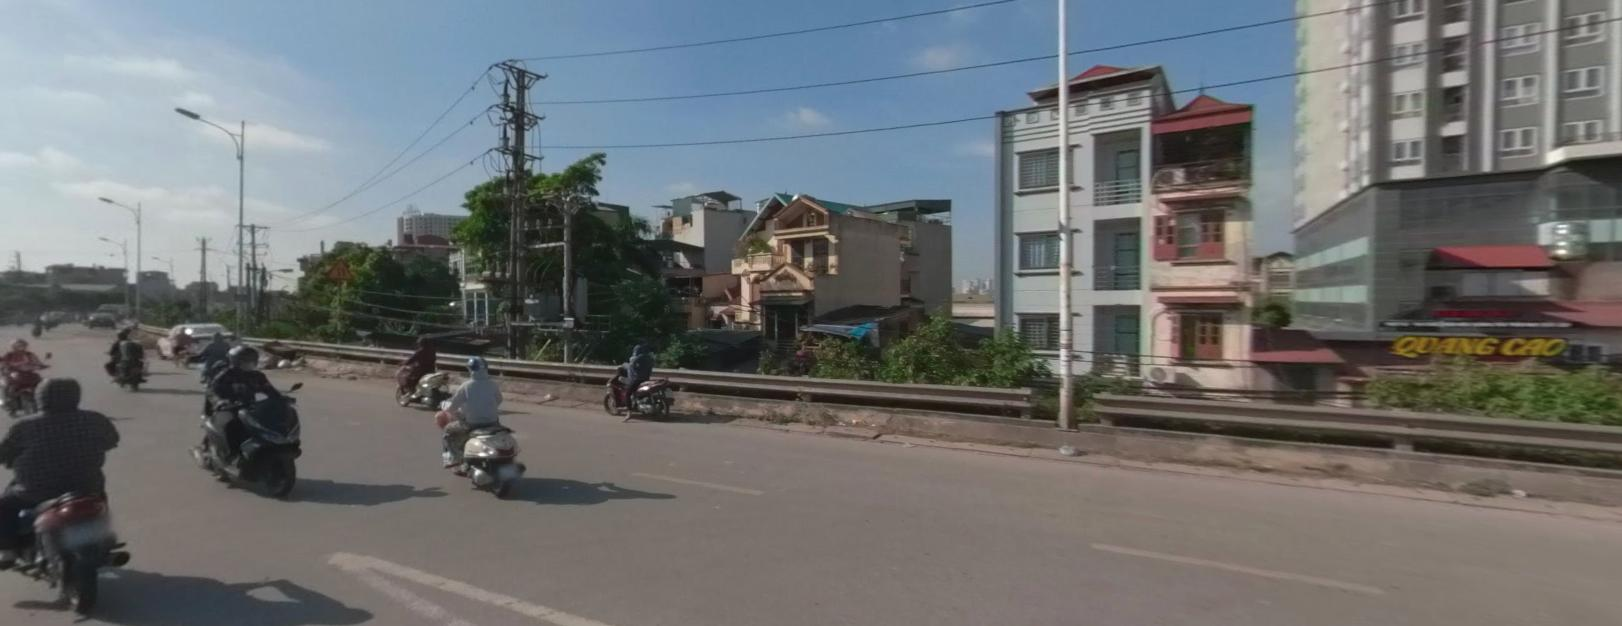Nguy hiem: (326, 257, 354, 278)
